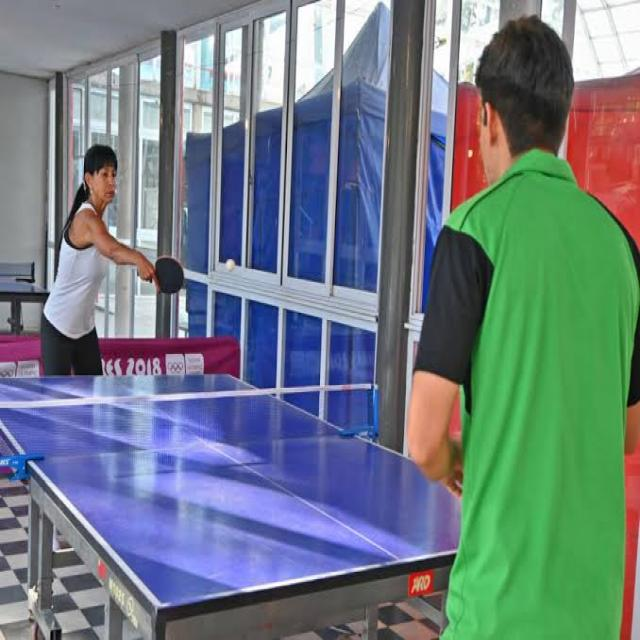TT Net: (0, 380, 389, 470), (0, 261, 36, 280)
TT Racket: (144, 248, 192, 307)
TT Table: (0, 370, 543, 610), (0, 275, 53, 296)
